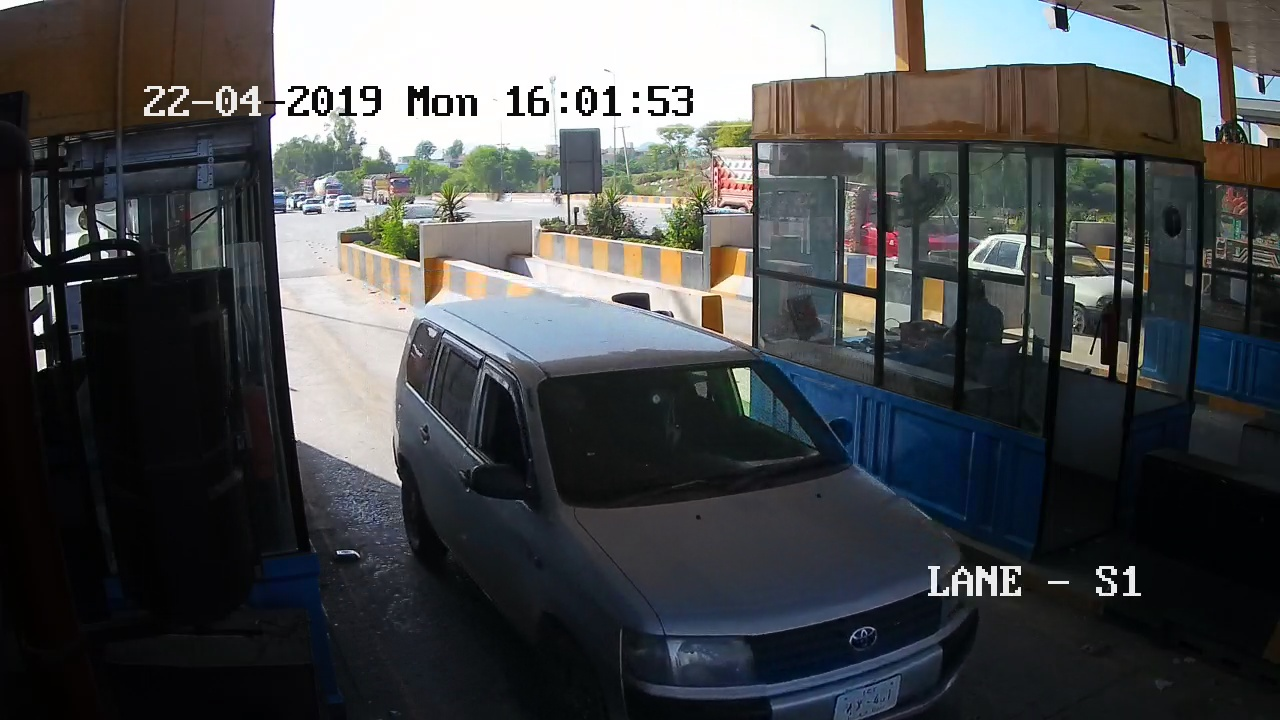Number Plate (Car): (835, 678, 905, 720)
